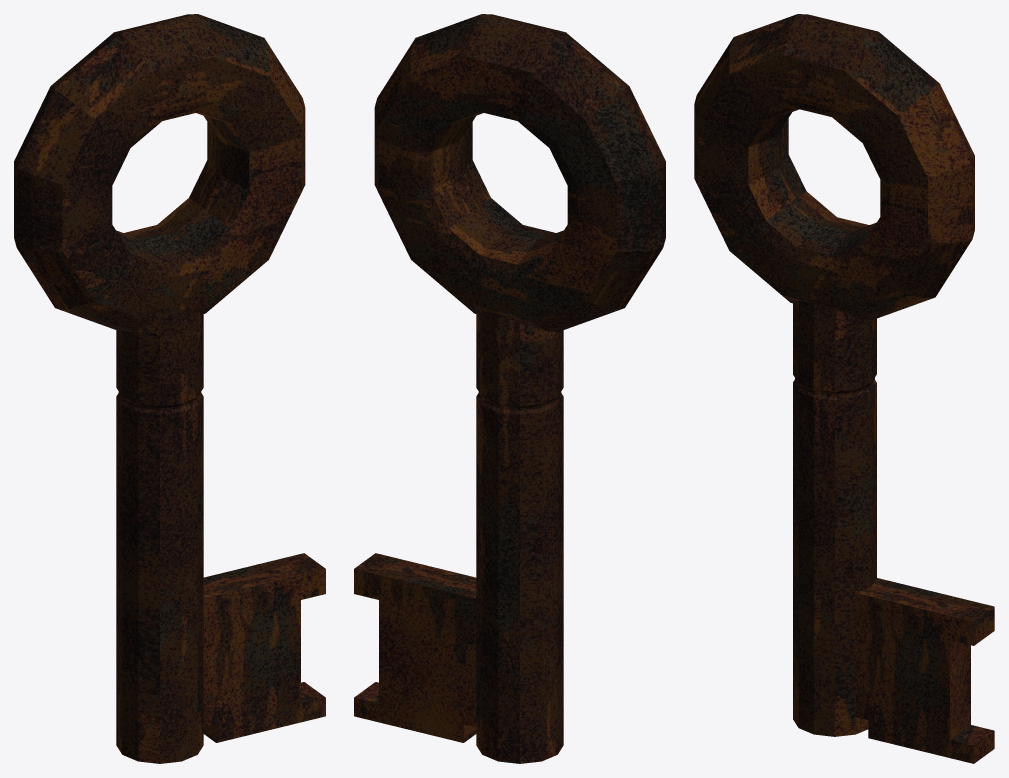
The model's file is key.glb.
3 views of the same model, side by side, from view 1: azimuth 30°, elevation 25°; view 2: azimuth 150°, elevation 25°; view 3: azimuth 330°, elevation 25° (orthographic). The views are drawn at different scales.
Parts seen in each view (by area): view 1: key; view 2: key; view 3: key.
Part boxes in pixels (<box>): key: <box>14,14,325,763</box>; key: <box>354,14,665,763</box>; key: <box>694,14,994,763</box>.
Bounding box in the file's own units: 1.62 × 3.75 × 0.4368.
Materials: 1 (1 with a texture image).
